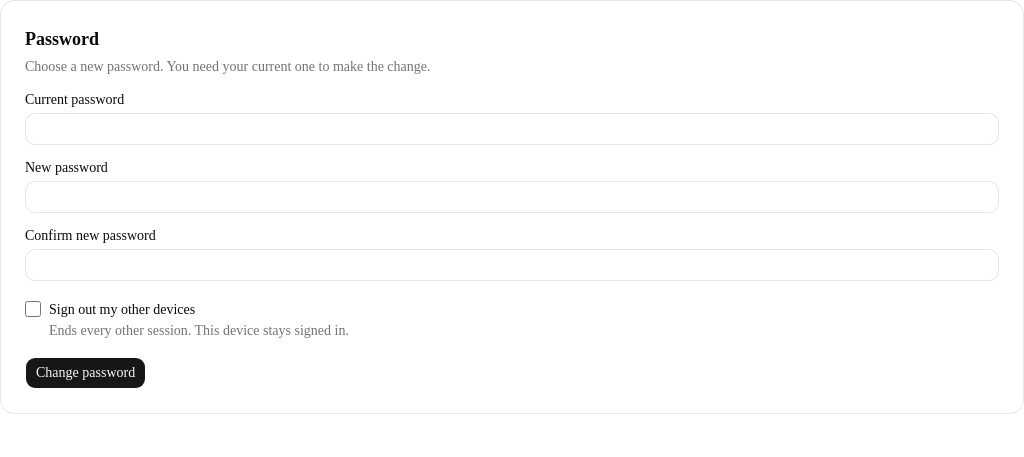
Scenario: ChangePasswordForm › refuses a new password below the policy without reaching the auth server
This screenshot has width=1024, height=457.
Type "the first correct password" into the password field labelled "Current password". click: point(512, 129)
box: [25,113,999,145]
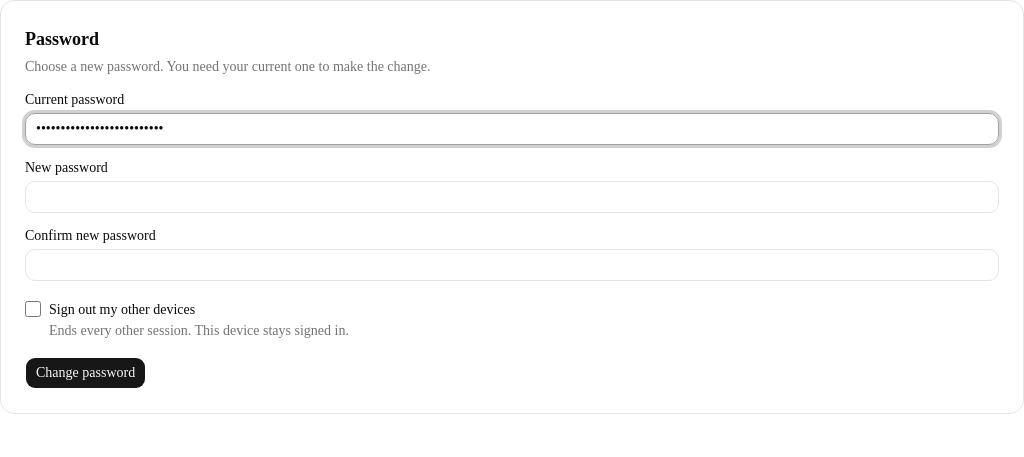
Type "short" into the password field labelled "New password". click: point(512, 197)
box: [25,181,999,213]
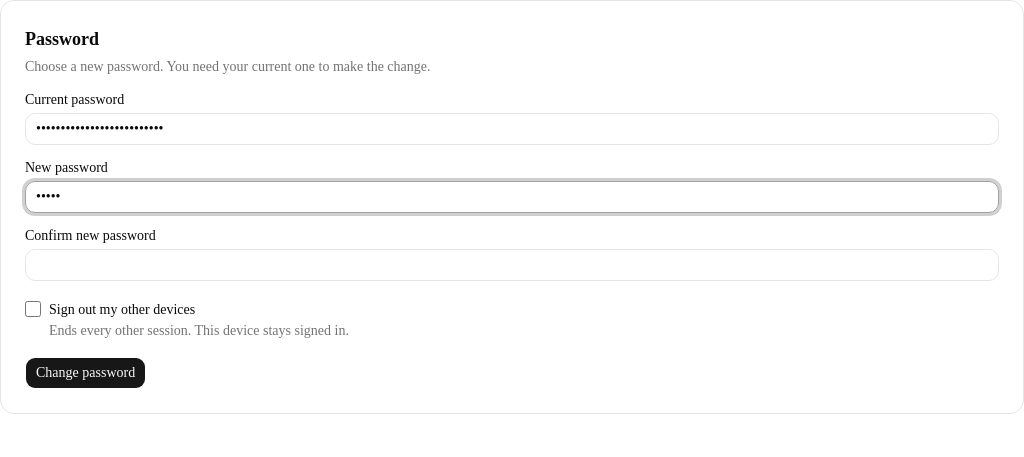
Type "short" into the password field labelled "Confirm new password". click: point(512, 265)
box: [25,249,999,281]
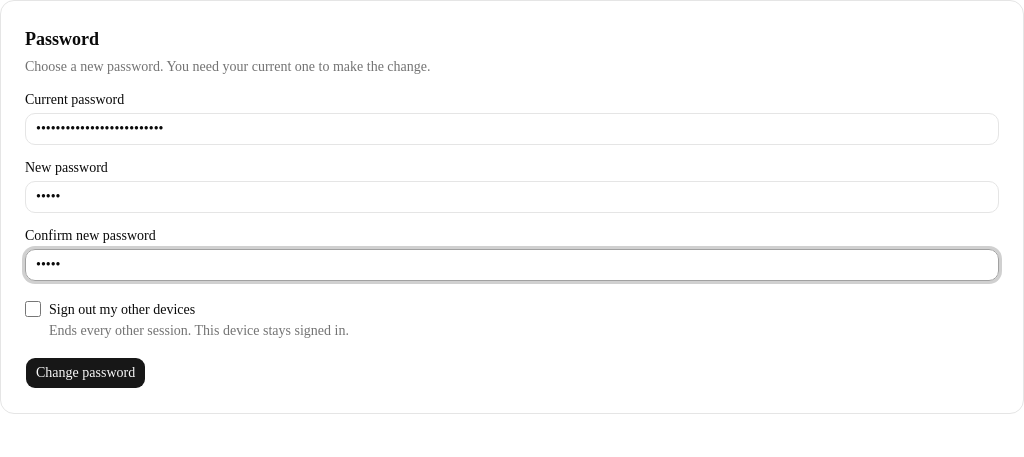
Click the button "Change password". click: point(86, 373)
box: [25,357,146,389]
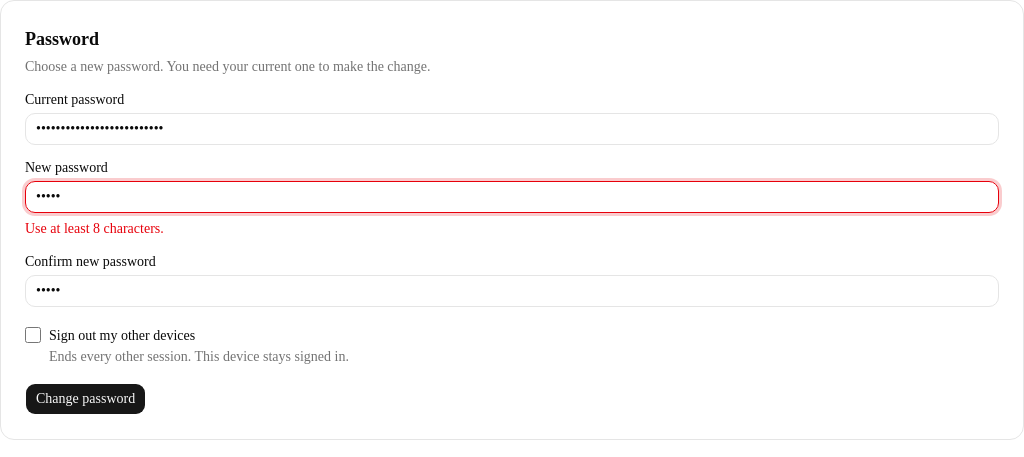
Result: the text "Use at least 8 characters." is shown at [25,221,164,236]
